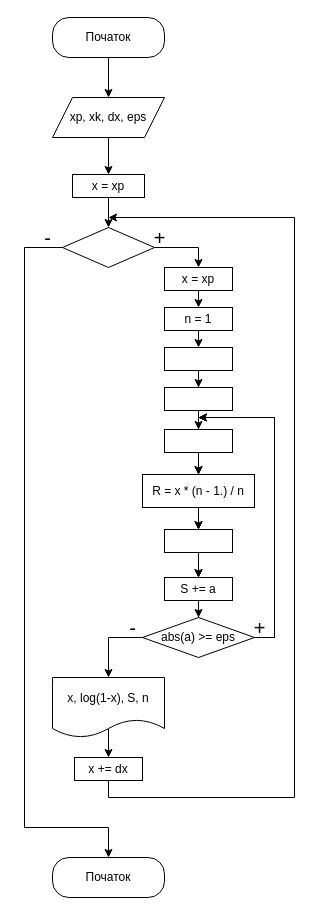
Image size: 320x915. Some labels were removed from this diagram. The centre of each missing label's shape, as x and y in pixels:
a *= R: (x=198, y=540)
a = x: (x=198, y=358)
n++: (x=198, y=440)
S = a: (x=198, y=398)
x <= xk: (x=108, y=247)
